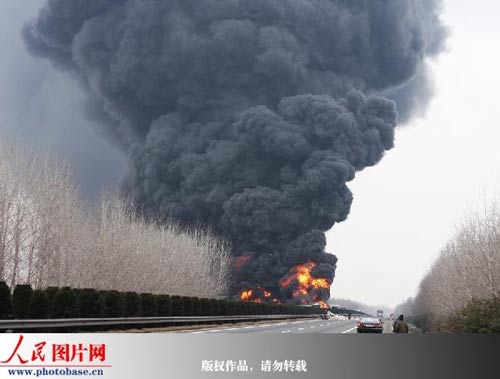fire: (229, 266, 333, 307)
smoke: (74, 3, 406, 258)
